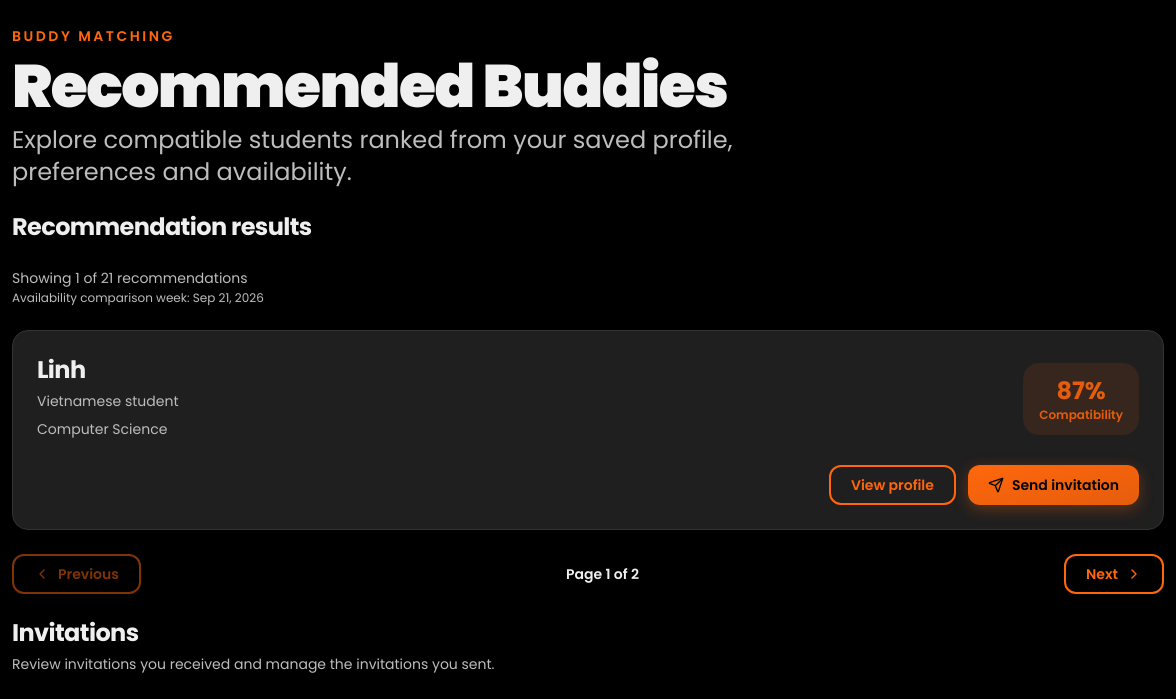
Test: REC-004 Recommended Buddies page › requests the next server page and keeps the server-provided order
Check: the element "Linh" is shown, box [12, 330, 1164, 530]
Click the button "Next": click(1114, 574) [1064, 554, 1164, 594]
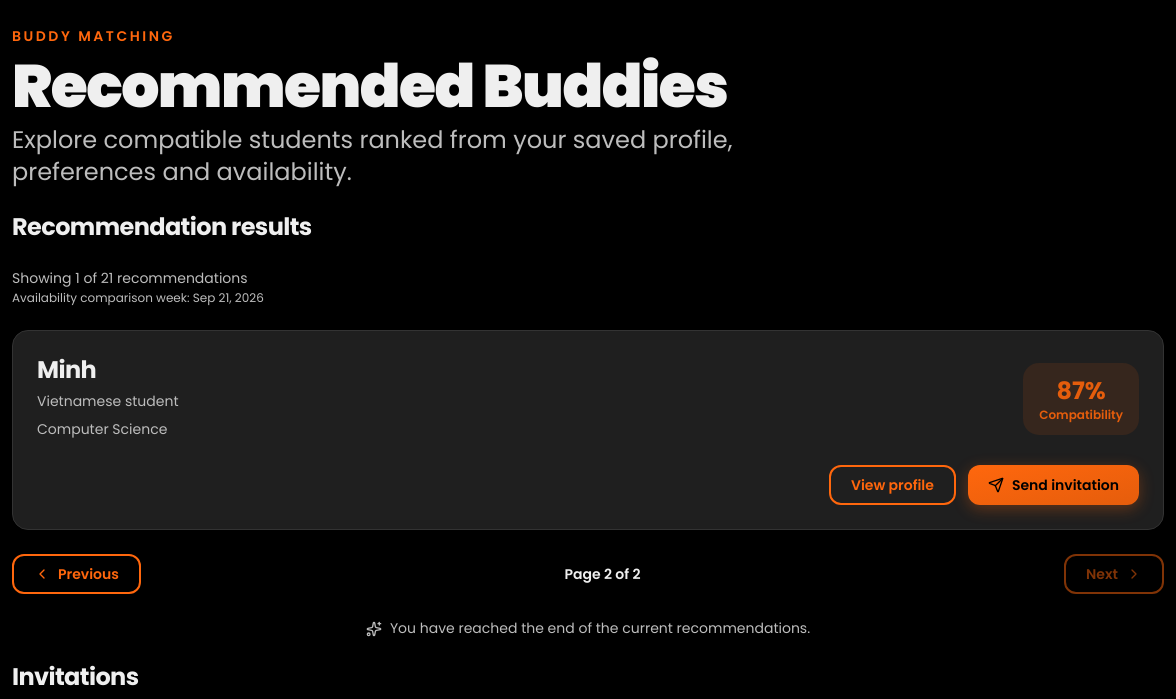
Check: the element "Minh" is shown, box [12, 330, 1164, 530]
Check: the text "Page 2 of 2" is shown, box [564, 564, 640, 584]
Check: the button "Next" is disabled, box [1064, 554, 1164, 594]
